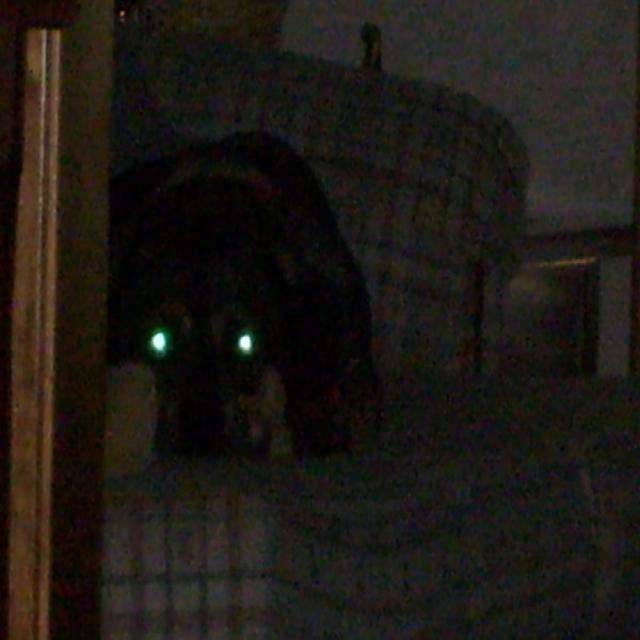Dog: (70, 135, 452, 583)
